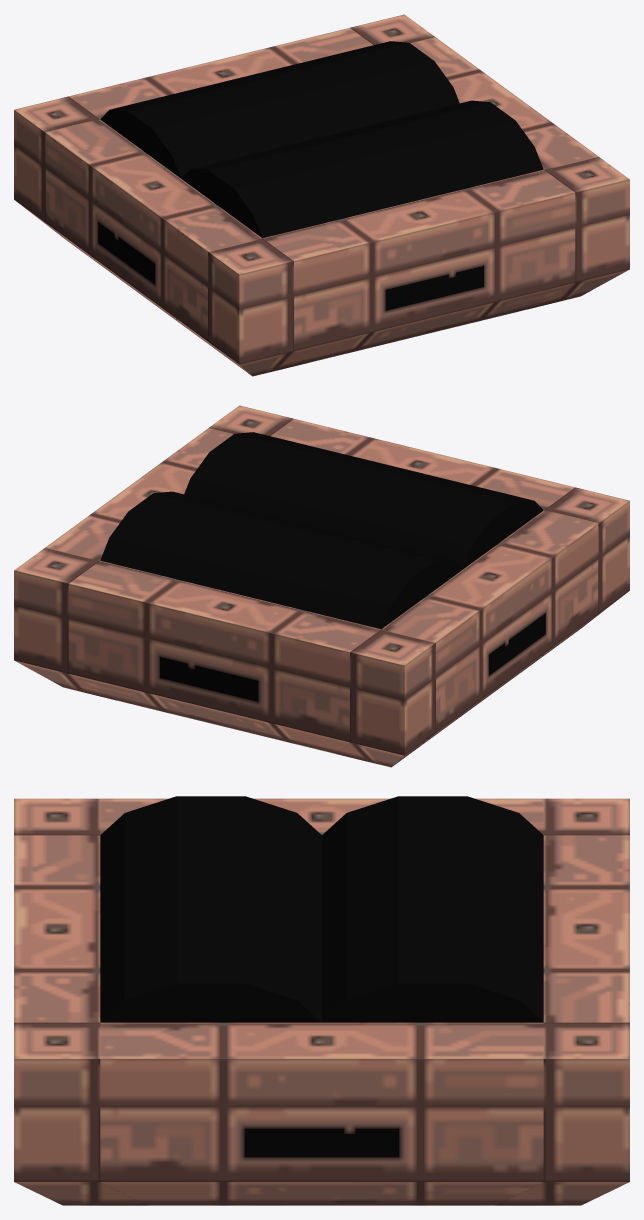
File: BouncyPlatform_1x1_Stone.fbx
3 renders of one model, top to bottom at view 1: azimuth 30°, elevation 25°; view 2: azimuth 150°, elevation 25°; view 3: azimuth 270°, elevation 25°, orthographic. The views are drawn at different scales.
Visible parts, largest first — view 1: BouncyPlatform_1x1_Stone; view 2: BouncyPlatform_1x1_Stone; view 3: BouncyPlatform_1x1_Stone.
Boxes of the visible parts, x1,y1,x2,y2 form: BouncyPlatform_1x1_Stone: [14, 14, 629, 376]; BouncyPlatform_1x1_Stone: [14, 405, 629, 767]; BouncyPlatform_1x1_Stone: [14, 796, 629, 1205].
Bounding box in the file's own units: 25 × 9.25 × 25.
